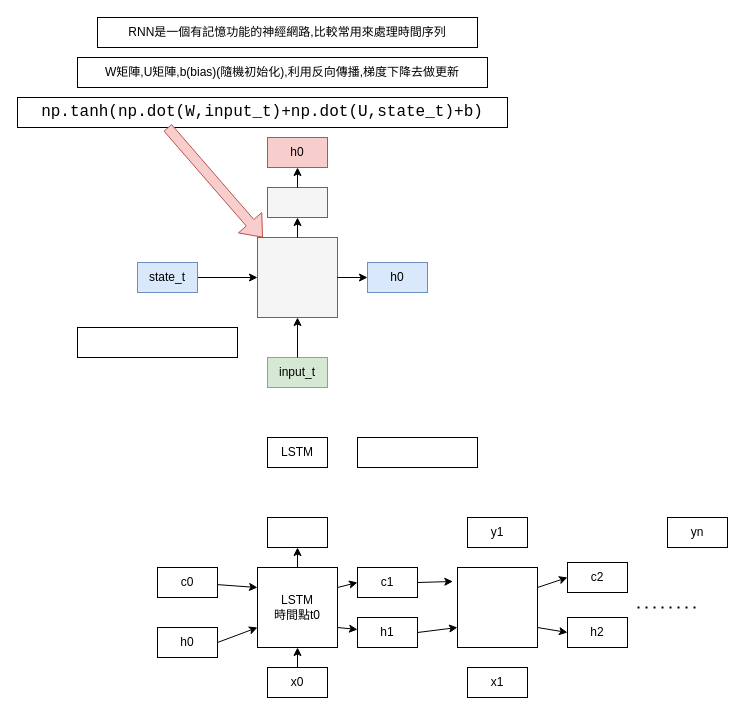
The diagram is 745 pixels wide and 715 high, and some of its shapes have lost their labels. Here are the shapes that lost their labels. From the top down, the box of each, then its label:
(266, 186, 328, 218): tanh
(256, 236, 338, 318): W,U,b
(76, 326, 238, 358): t:代表時間點的意思
(356, 436, 478, 468): 依次類推 反覆循環下去循環tn
(266, 516, 328, 548): y0
(456, 566, 538, 648): LSTM 時間點t1
